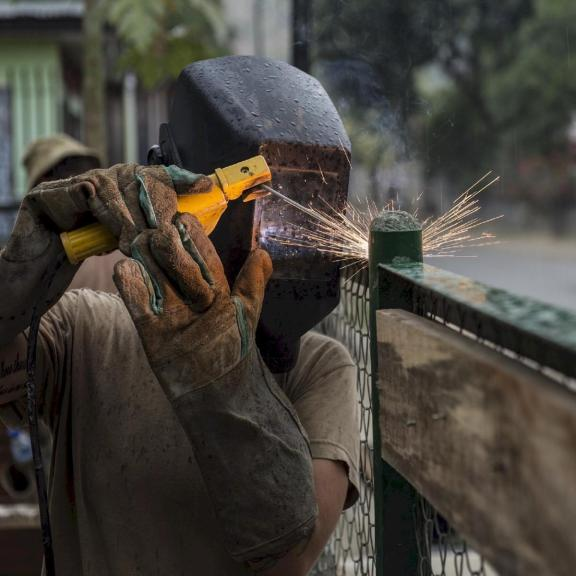no_safety_vest: (31, 277, 349, 572)
